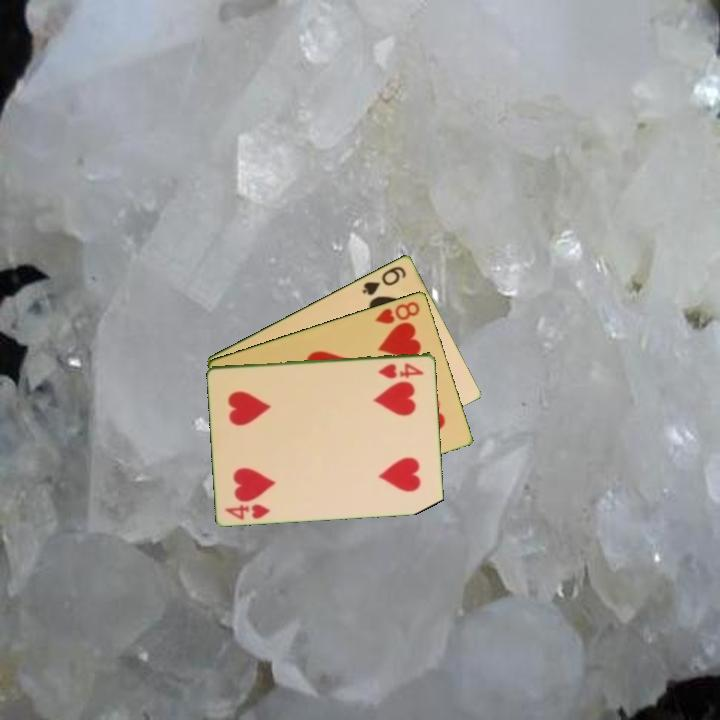4h: (375, 359, 427, 381), (222, 500, 273, 522)
6s: (359, 262, 409, 298)
8h: (372, 297, 423, 327)
